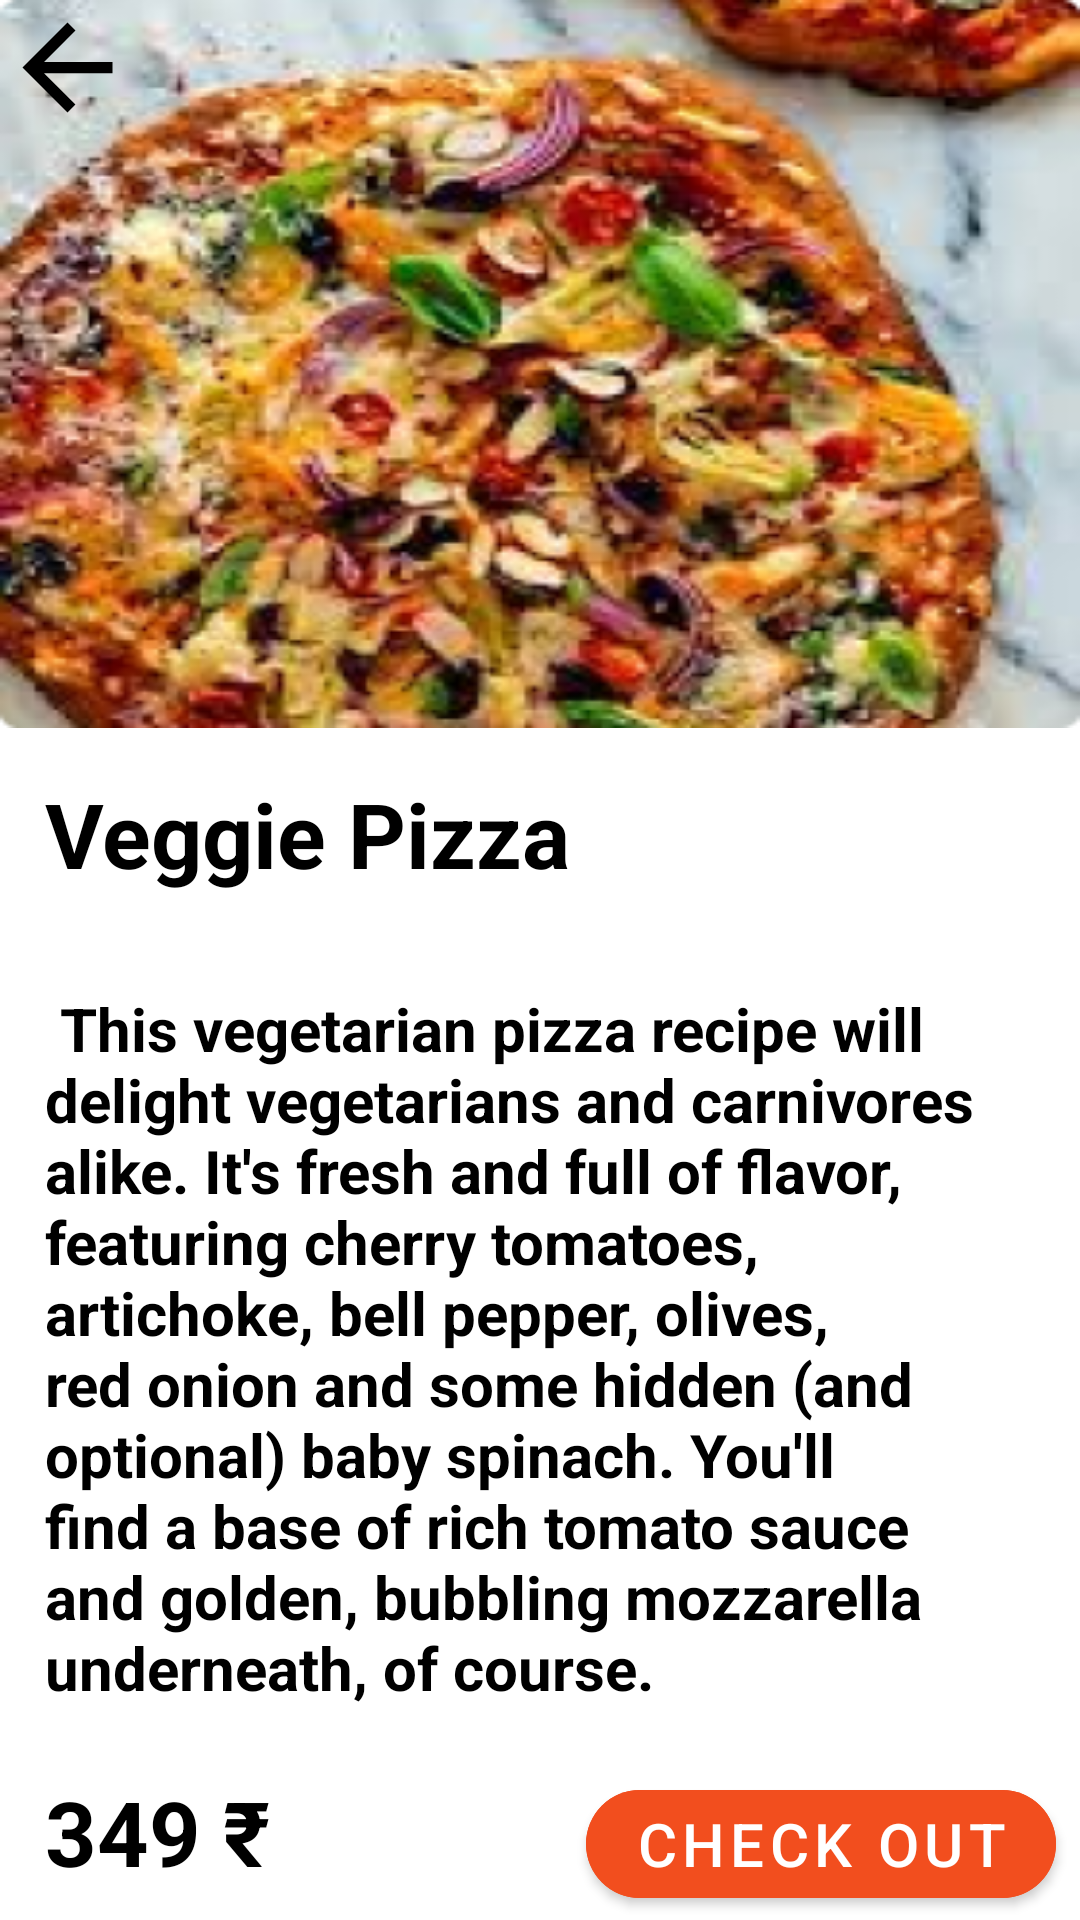

Screen size 1080px x 1920px. Icon name, then its center in pixels as [x,y]:
back: [56,56]
